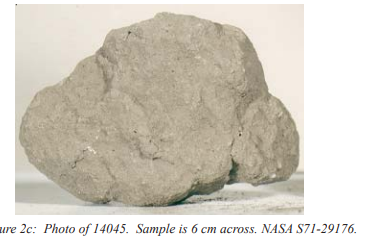Breccia: (23, 0, 301, 207), (98, 57, 281, 188)
